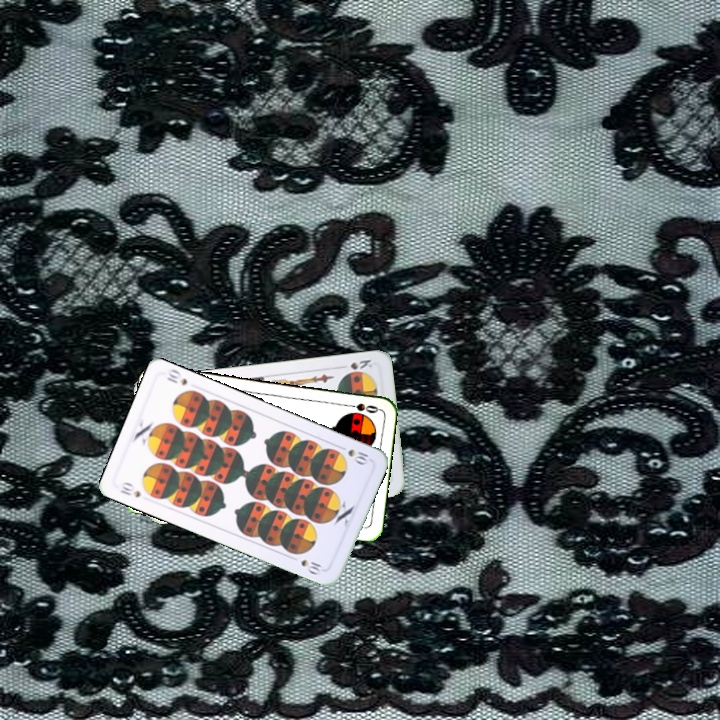S10: (334, 441, 373, 468), (116, 478, 143, 500)
SK: (346, 355, 375, 372)
SO: (340, 399, 381, 416)
